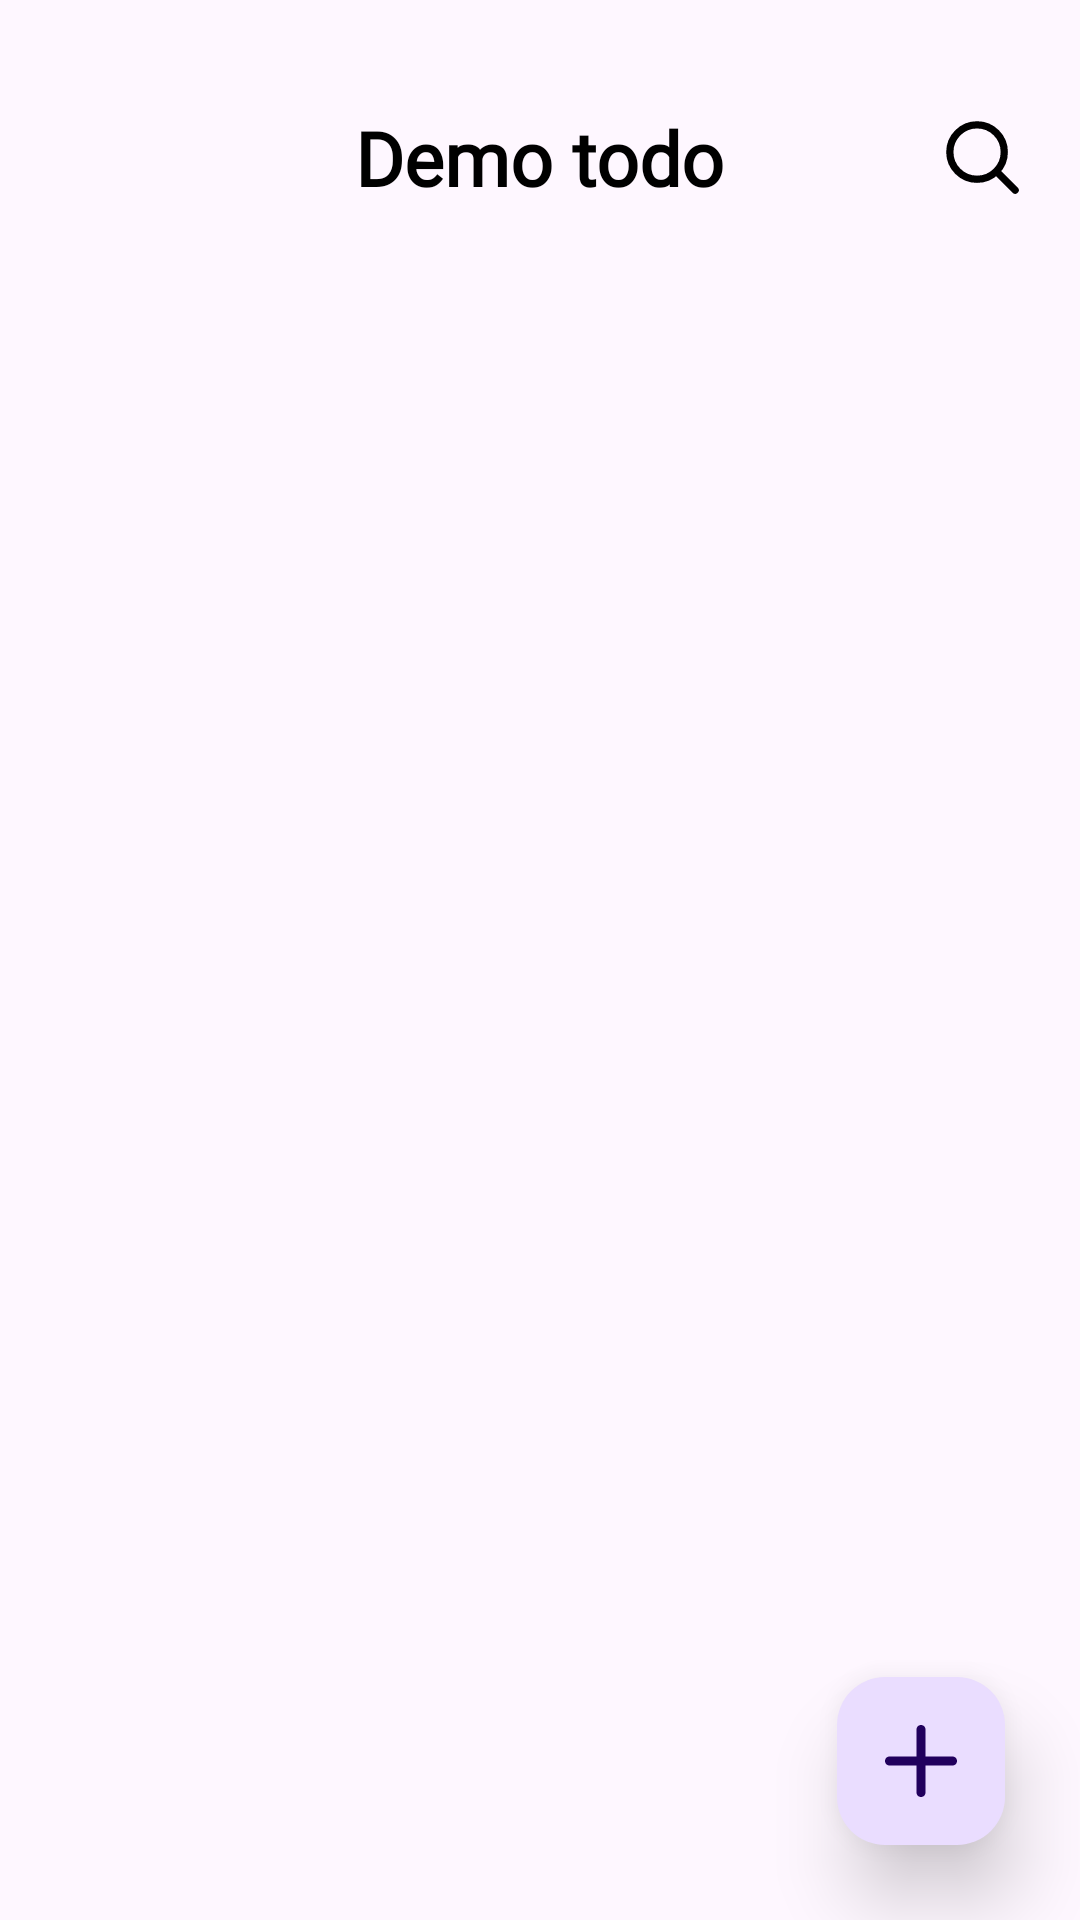

Named icons in this screenshot (1080*1920) and their bounding boxes, bbox=[x1, y1, x2, y2]:
add: bbox=[837, 1677, 1005, 1845]
search: bbox=[946, 121, 1019, 194]
